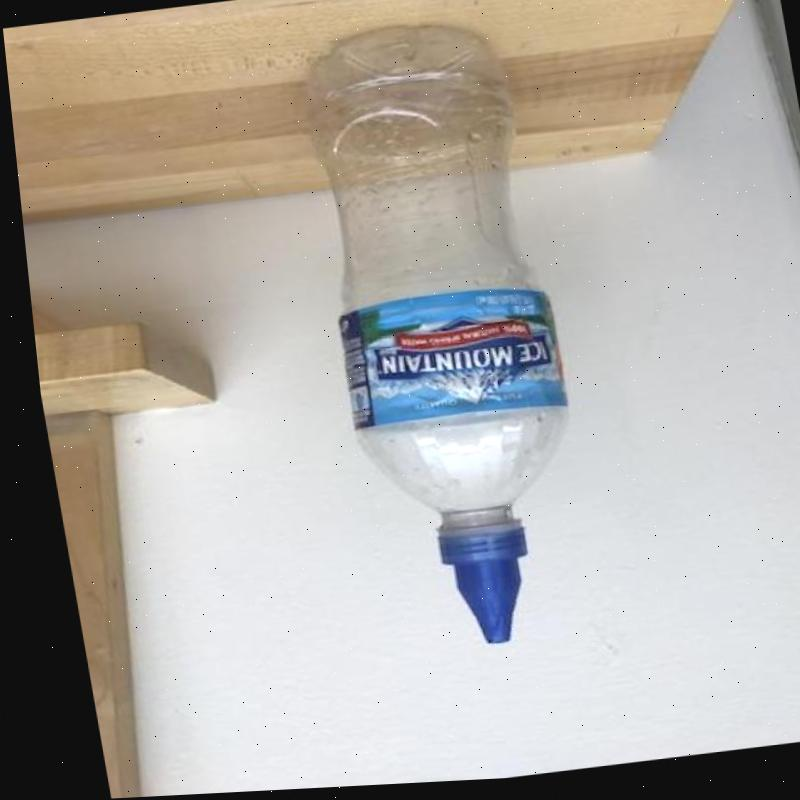botella: (276, 13, 599, 660)
